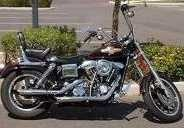motorcycle: (2, 7, 183, 120)
